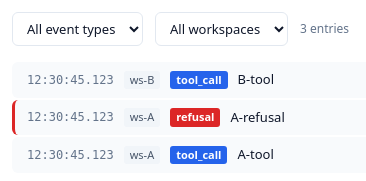
it: TrailStream › applies both filters simultaneously
Select "tool_call" in the 1st dropdown. click: {"x": 78, "y": 29}
box: [12, 12, 143, 46]
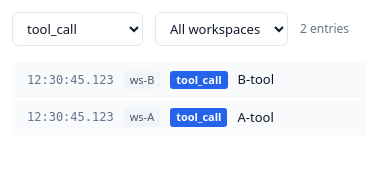
Select "ws-A" in the 2nd dropdown. click: {"x": 222, "y": 29}
box: [155, 12, 288, 46]
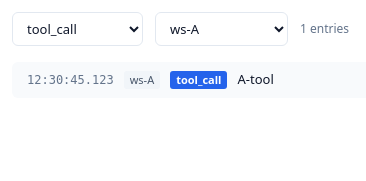
Expected: the text "A-tool" is shown, [238, 70, 274, 90]
Now the text "1 entries" is shown, box [300, 20, 349, 38]
Now the button "B-tool" is gone
